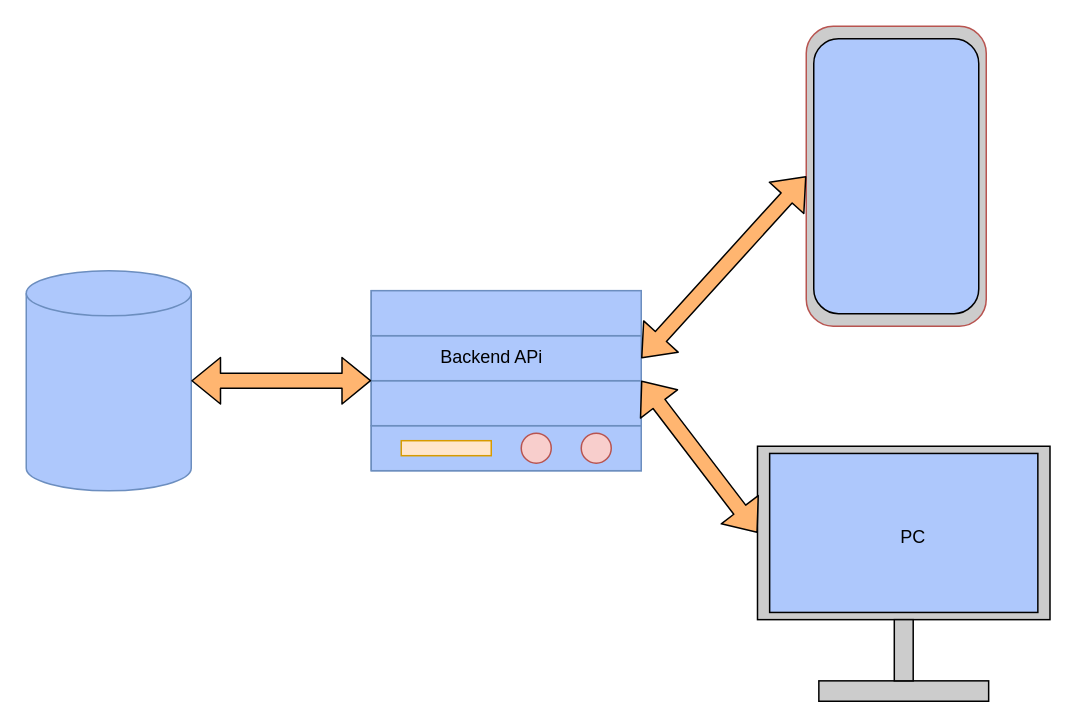
Some shapes in this 1077 by 728 pixel diagram are drawn without their labels. Each missing label, with the centre of its shape:
"Android" goes at pixel 895 175.
"MYSQL" goes at pixel 108 380.
